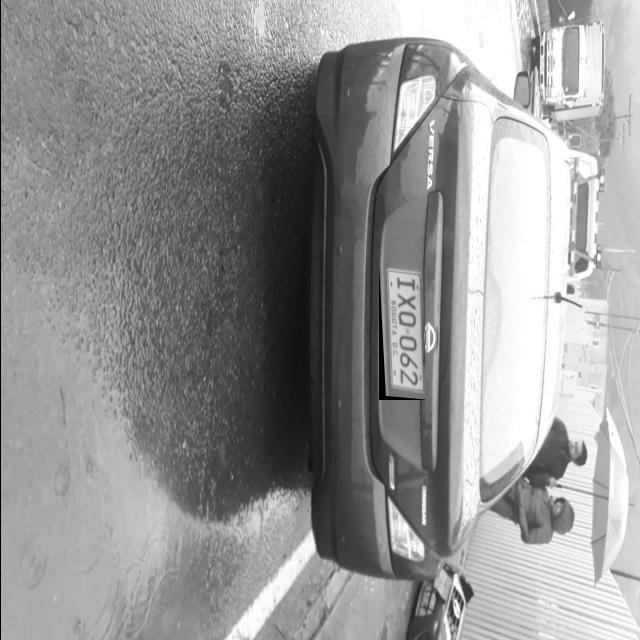plate: (378, 267, 424, 400)
